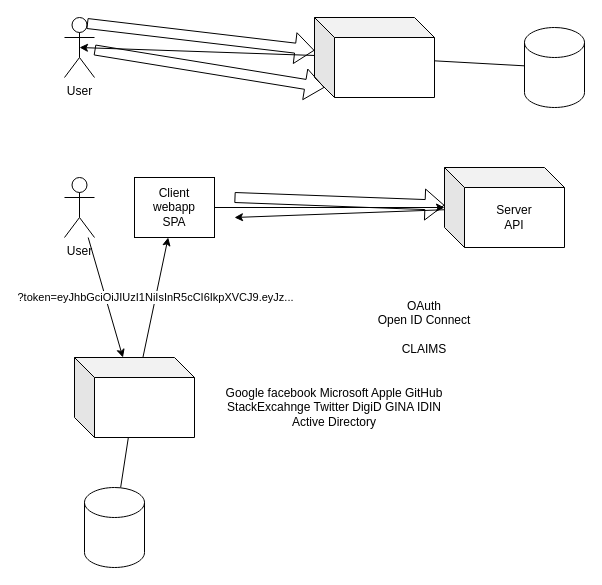
This 602x585 diagram has some shape labels left out. Here are the shapes that lost their labels. From the top down, the centre of each, then its label:
At pixel 374 57: "Server".
At pixel 134 397: "Identity Provider".
